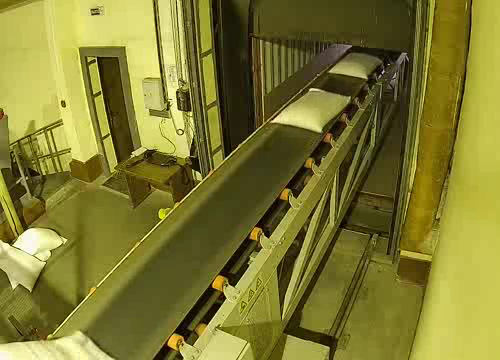bag: (0, 322, 118, 360), (271, 86, 354, 136), (329, 48, 384, 82)
